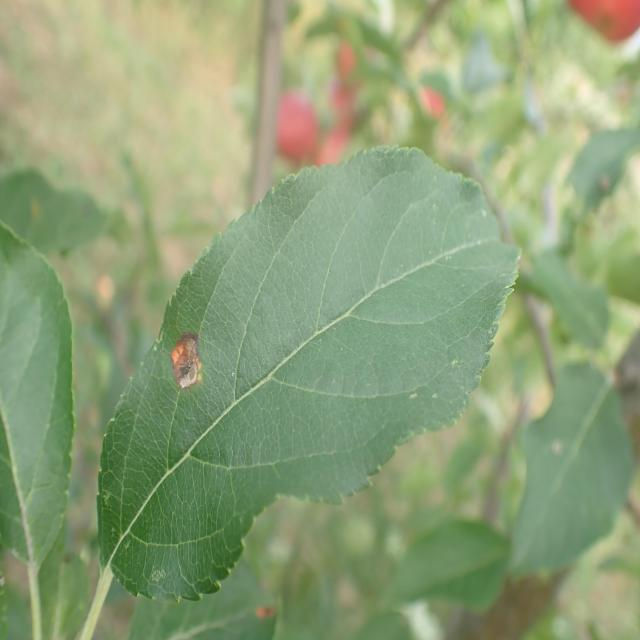Rust: (163, 297, 208, 410)
